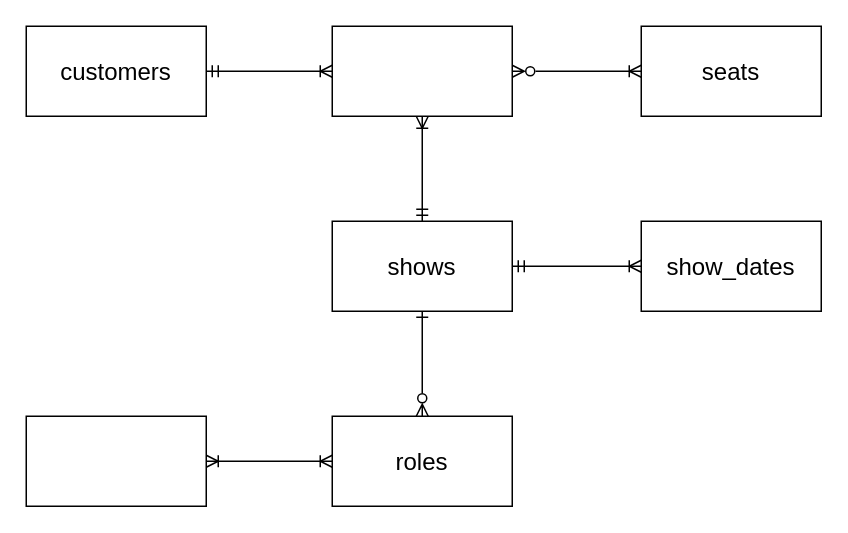
This 848x533 diagram has some shape labels left out. Here are the shapes that lost their labels. From the top down, the box of each, then its label:
(331, 25, 512, 116): reservations
(25, 415, 206, 506): performers
